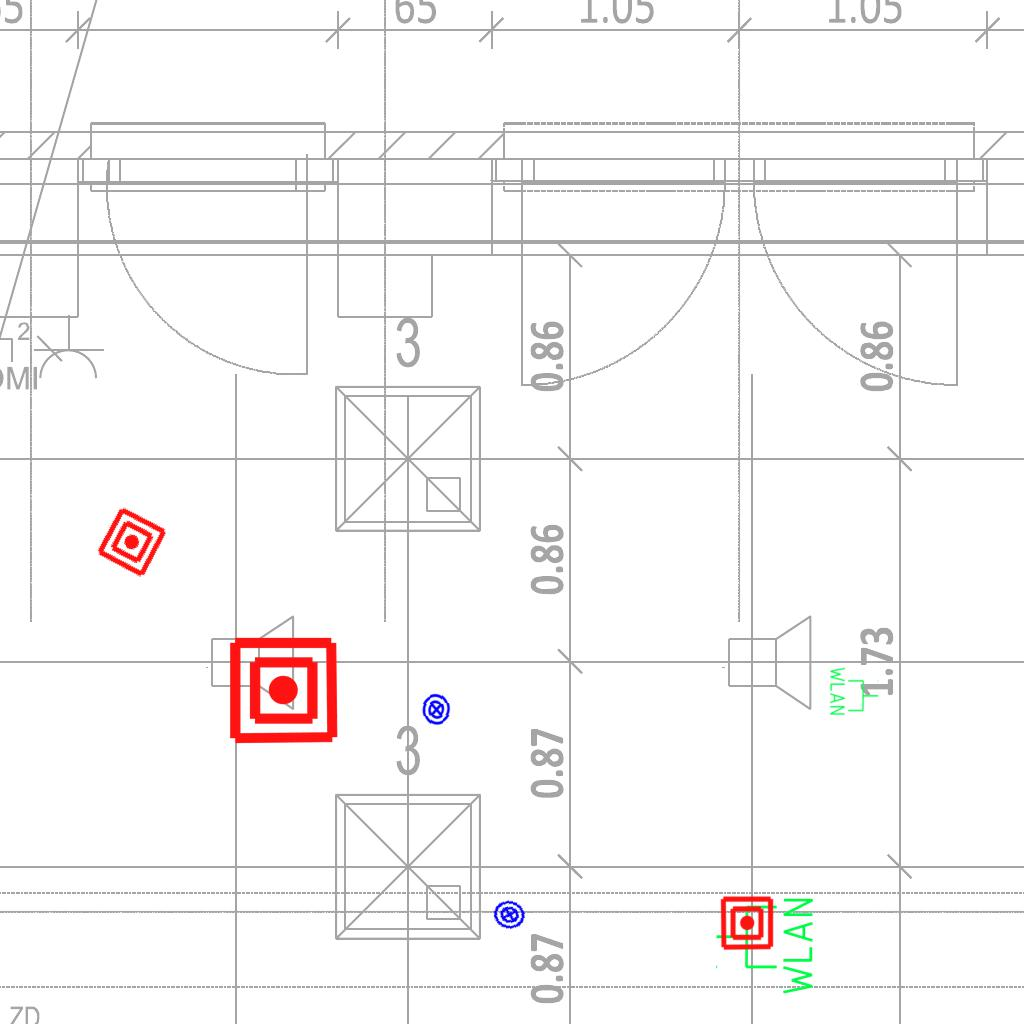NAM-Nichtautomatischer_Melder: (227, 634, 340, 747), (94, 504, 170, 580), (719, 895, 775, 951)
Taster_beleuchtet: (489, 894, 530, 935), (418, 691, 455, 728)
WLAN: (713, 894, 817, 999), (828, 665, 880, 717)
